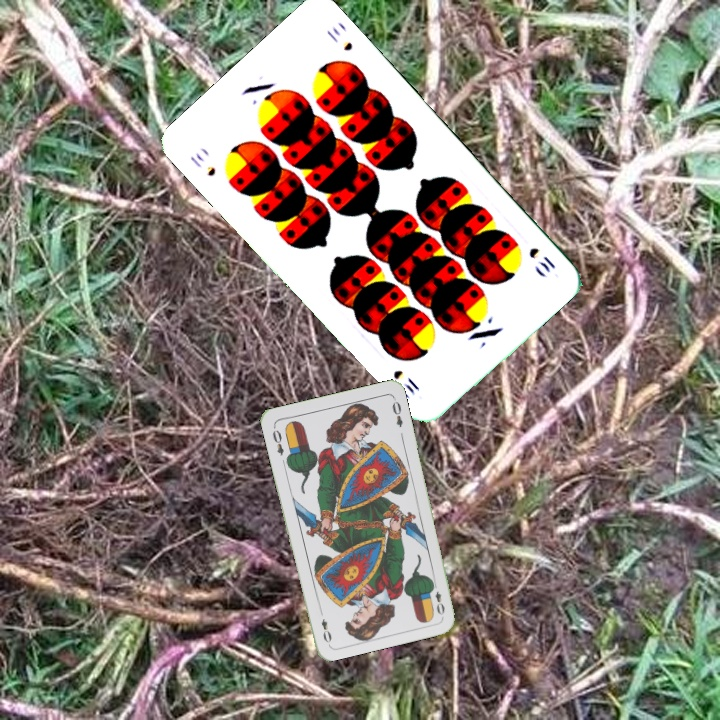EO: (428, 578, 447, 617), (268, 425, 286, 458)
S10: (525, 243, 559, 275), (185, 148, 219, 179)
